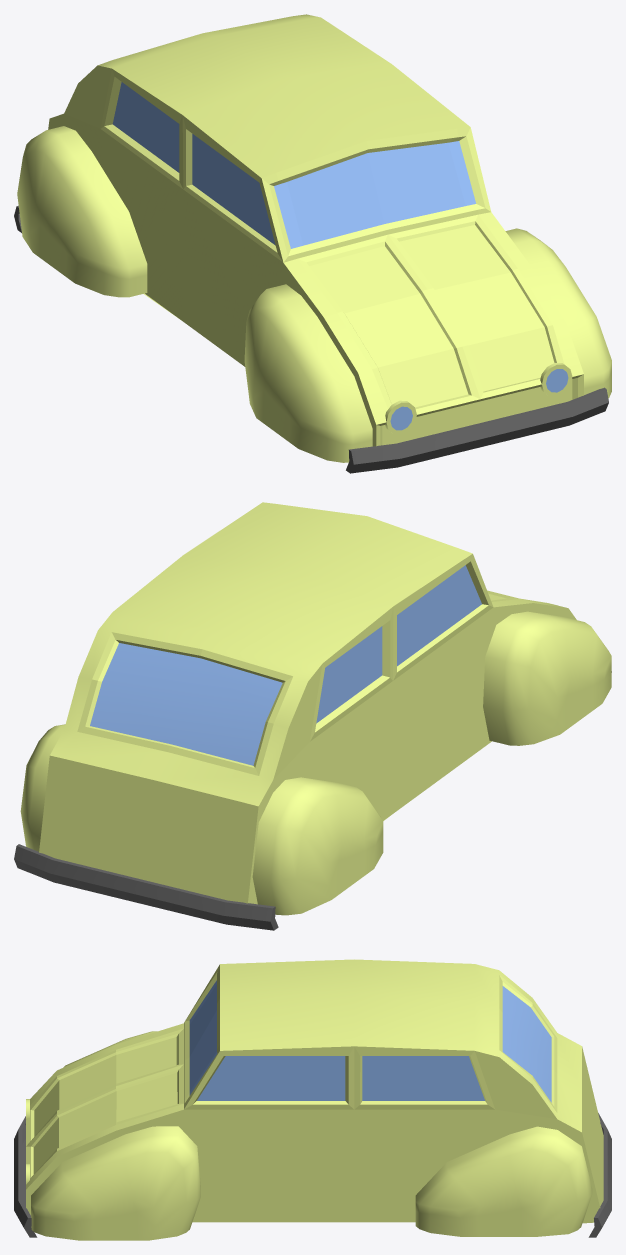
File: car_3.FBX
The picture shows the model from 3 angles, top to bottom: view 1: azimuth 30°, elevation 25°; view 2: azimuth 150°, elevation 25°; view 3: azimuth 270°, elevation 25°; orthographic projection. The views are drawn at different scales.
Visible parts, largest first — view 1: car_3; view 2: car_3; view 3: car_3.
Boxes of the visible parts, x1=… form: car_3: x1=14, y1=14, x2=611, y2=473; car_3: x1=14, y1=502, x2=611, y2=930; car_3: x1=14, y1=959, x2=611, y2=1240.
Bounding box in the file's own units: 3.12 × 2.2 × 6.24.
